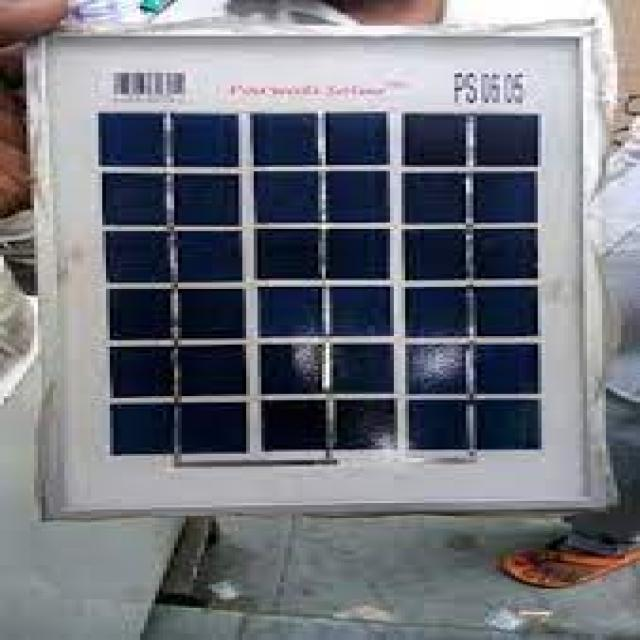faulty: (111, 114, 553, 451)
